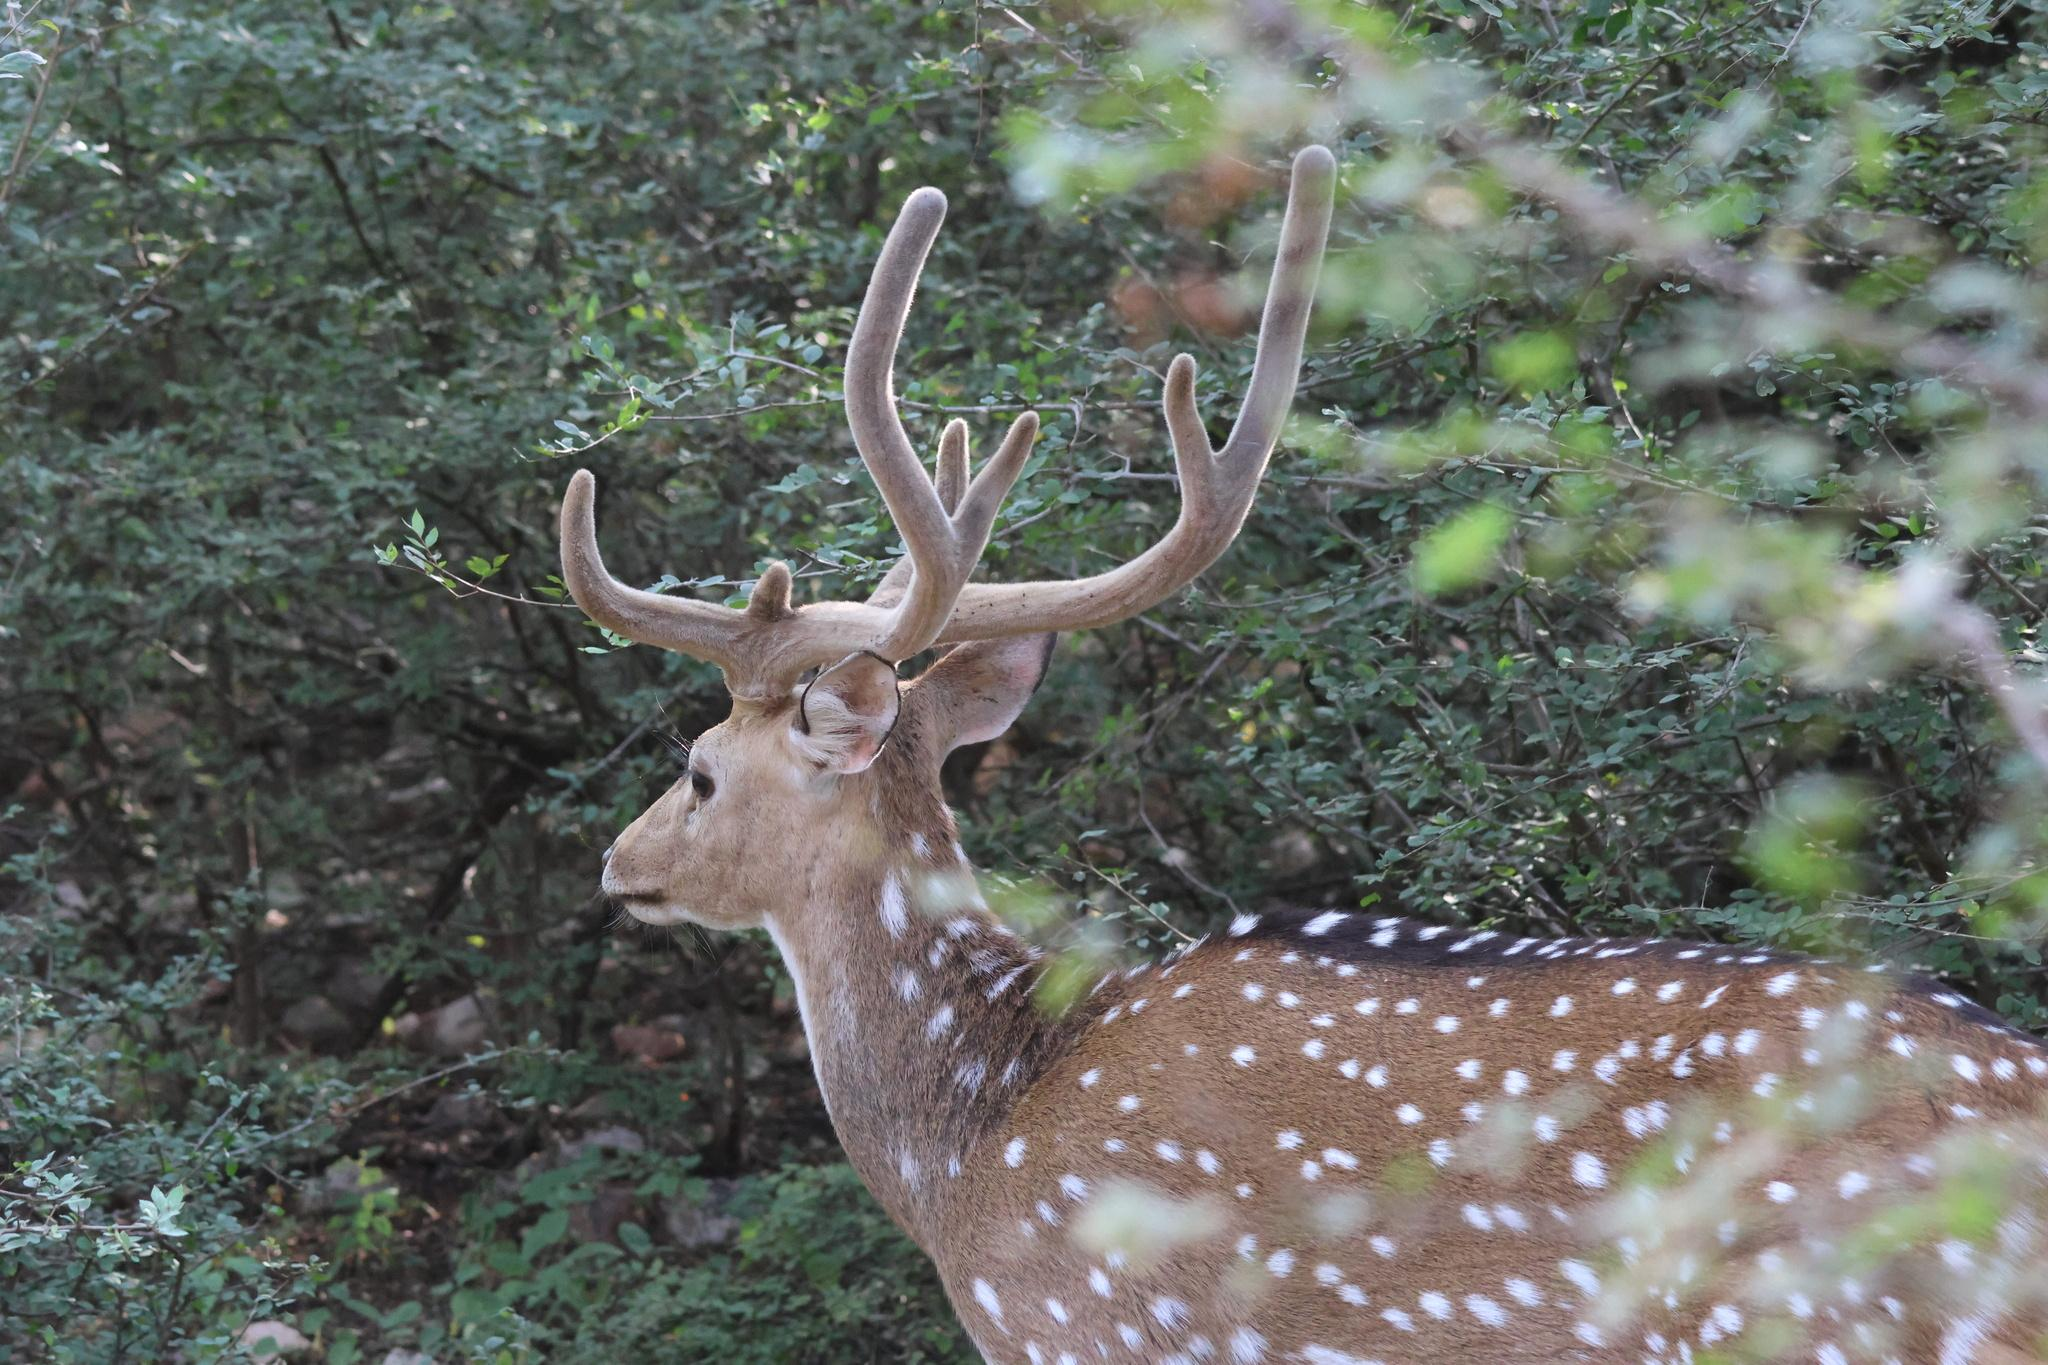Deer: (559, 146, 2046, 1360)
